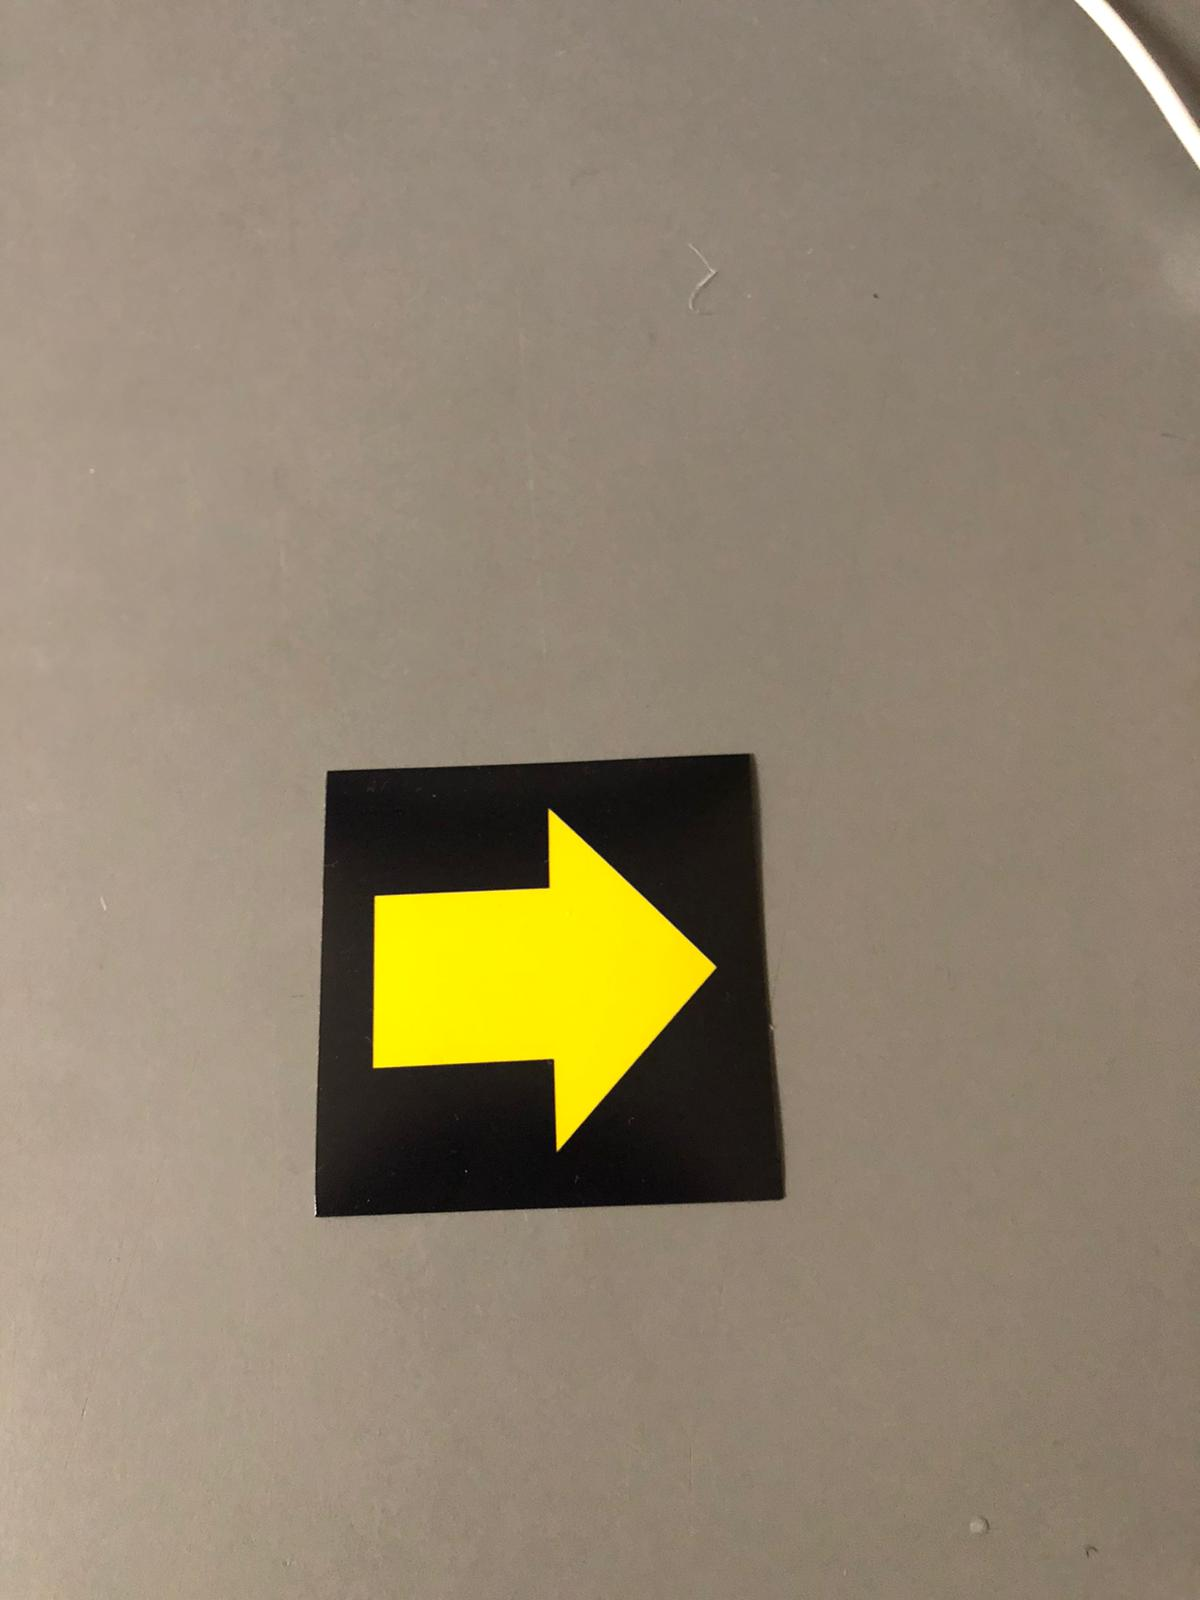Right Arrow: (321, 791, 747, 1180)
